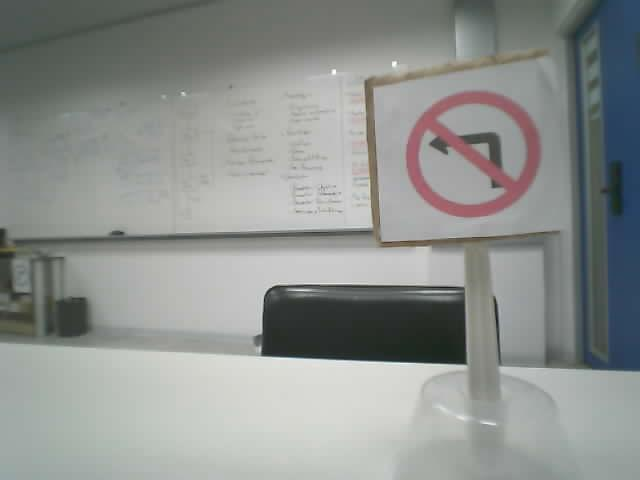R-4a_proibido-esquerda: (403, 89, 540, 219)
